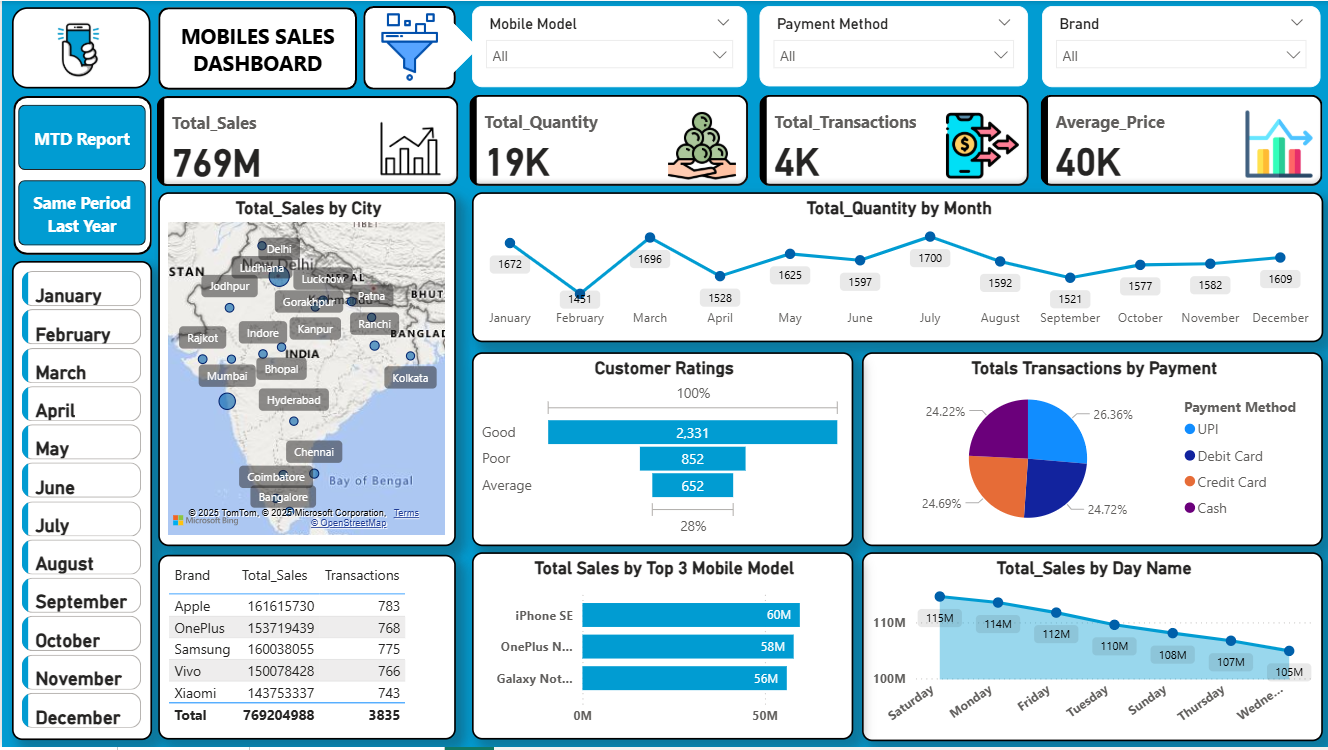

This screenshot's page, from the dashboard's own definition file:
{"tool":"powerbi","page":{"name":"Sales Dashboard","canvas":[1280,720],"ordinal":0},"visuals":[{"type":"textbox","box":[9.7,6,133.9,78.4],"z":0},{"type":"advancedSlicerVisual","fields":{"Values":["Custom_calendar.Date.Variation.Date Hierarchy.Month"]},"box":[9.7,250.9,135.1,462.1],"z":1000},{"type":"cardVisual","fields":{"Data":["Sales.Total_Sales"]},"box":[144.8,86.9,301.6,97.7],"z":2000},{"type":"cardVisual","fields":{"Data":["Sales.Total_Quantity"]},"box":[446.4,85.7,279.9,98.9],"z":3000},{"type":"cardVisual","fields":{"Data":["Sales.Total_Transactions"]},"box":[726.3,85.7,270.2,98.9],"z":4000},{"type":"cardVisual","fields":{"Data":["Sales.Total_Average"]},"box":[997.7,85.7,282.3,98.9],"z":5000},{"type":"map","fields":{"Category":["Sales.City"],"Size":["Sales.Total_Sales"]},"box":[150.8,184.6,287.1,341.4],"z":6000},{"type":"lineChart","fields":{"Category":["Custom_calendar.Date.Variation.Date Hierarchy.Month"],"Y":["Sales.Total_Quantity"]},"box":[453.6,184.6,821.6,144.8],"z":7000},{"type":"pieChart","title":"Totals Transactions by Payment ","fields":{"Category":["Sales.Payment Method"],"Y":["Sales.Total_Transactions"]},"box":[830,339,445.2,187],"z":8000},{"type":"areaChart","fields":{"Y":["Sales.Total_Sales"],"Category":["Custom_calendar.Day Name"]},"box":[830,532,445.2,182.2],"z":9000},{"type":"funnel","title":" Customer Ratings","fields":{"Category":["Sales.Ratings Status"],"Y":["CountNonNull(Sales.Customer Ratings)"]},"box":[453.6,339,368,187],"z":10000},{"type":"clusteredBarChart","title":"Total Sales by Top 3 Mobile Model","fields":{"Category":["Sales.Mobile Model"],"Y":["Sales.Total_Sales"]},"box":[453.6,532,368,181],"z":11000},{"type":"tableEx","fields":{"Values":["Sales.Brand","Sales.Total_Sales","Sales.Total_Transactions"]},"box":[150.8,534.5,287.1,178.6],"z":12000},{"type":"image","box":[24.1,8.4,98.9,77.2],"z":13000},{"type":"shape","box":[10.9,91.7,133.9,153.2],"z":14000},{"type":"shape","box":[150.8,6,191.8,79.6],"z":17000},{"type":"shape","box":[348.7,4.8,89.3,80.8],"z":18000},{"type":"image","box":[348.7,6,89.3,77.2],"z":19000},{"type":"shape","box":[400.5,20.5,59.1,49.5],"z":20000},{"type":"slicer","fields":{"Values":["Sales.Mobile Model"]},"box":[453.6,4.8,265.4,78.4],"z":21000},{"type":"slicer","fields":{"Values":["Sales.Payment Method"]},"box":[731.1,4.8,259.4,77.2],"z":22000},{"type":"slicer","fields":{"Values":["Sales.Brand"]},"box":[1003.8,4.8,269,78.4],"z":23000},{"type":"pageNavigator","box":[15.7,100.1,123.1,136.3],"z":23001}]}

Visuals, with their boxes in screenshot pixels (x1, y1, x2, y2), scaled from the page's 1280x720 canvas onto the 1328x750 screenshot:
textbox: (10, 6, 149, 88)
advancedSlicerVisual - Custom_calendar.Date.Variation.Date Hierarchy.Month: (10, 261, 150, 743)
cardVisual - Sales.Total_Sales: (150, 91, 463, 192)
cardVisual - Sales.Total_Quantity: (463, 89, 754, 192)
cardVisual - Sales.Total_Transactions: (754, 89, 1034, 192)
cardVisual - Sales.Total_Average: (1035, 89, 1327, 192)
map - Sales.City x Sales.Total_Sales: (156, 192, 454, 548)
lineChart - Custom_calendar.Date.Variation.Date Hierarchy.Month x Sales.Total_Quantity: (471, 192, 1323, 343)
"Totals Transactions by Payment " pieChart: (861, 353, 1323, 548)
areaChart - Sales.Total_Sales x Custom_calendar.Day Name: (861, 554, 1323, 744)
" Customer Ratings" funnel: (471, 353, 852, 548)
"Total Sales by Top 3 Mobile Model" clusteredBarChart: (471, 554, 852, 743)
tableEx - Sales.Brand x Sales.Total_Sales: (156, 557, 454, 743)
image: (25, 9, 128, 89)
shape: (11, 96, 150, 255)
shape: (156, 6, 355, 89)
shape: (362, 5, 454, 89)
image: (362, 6, 454, 87)
shape: (416, 21, 477, 73)
slicer - Sales.Mobile Model: (471, 5, 746, 87)
slicer - Sales.Payment Method: (759, 5, 1028, 85)
slicer - Sales.Brand: (1041, 5, 1321, 87)
pageNavigator: (16, 104, 144, 246)
